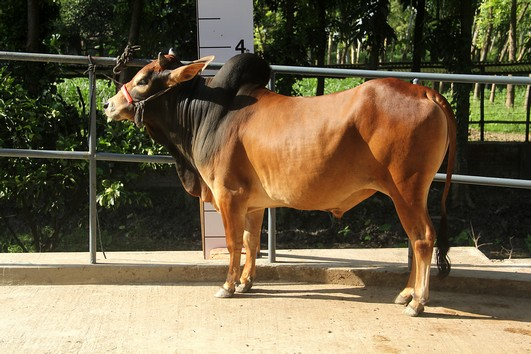cow: (97, 40, 457, 325)
